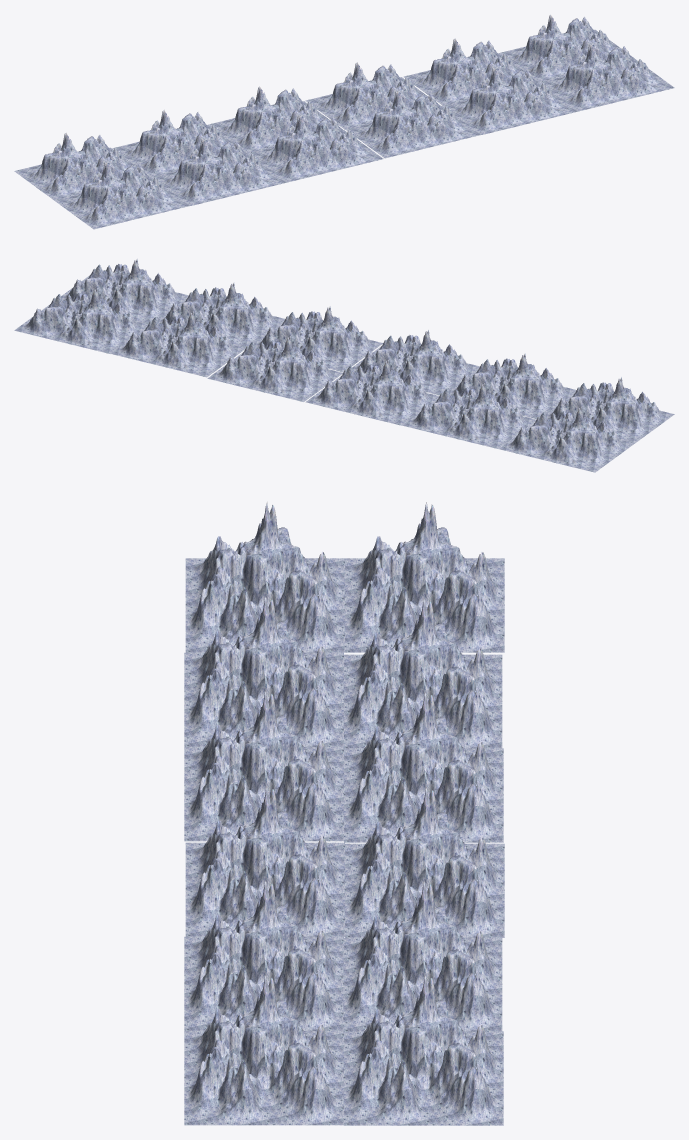
File: snowyMountains.glb
3 renders of one model, top to bottom at view 1: azimuth 30°, elevation 25°; view 2: azimuth 150°, elevation 25°; view 3: azimuth 270°, elevation 25°, orthographic. The views are drawn at different scales.
Visible parts, largest first — view 1: Landscape.003, Landscape.009, Landscape, Landscape.005, Landscape.006, Landscape.011, Landscape.002, Landscape.010, Landscape.007, Landscape.008, Landscape.004, Landscape.001; view 2: Landscape.002, Landscape.008, Landscape.007, Landscape.004, Landscape.001, Landscape.010, Landscape.009, Landscape.005, Landscape.003, Landscape, Landscape.011, Landscape.006; view 3: Landscape.011, Landscape.010, Landscape.002, Landscape.005, Landscape.004, Landscape, Landscape.009, Landscape.003, Landscape.006, Landscape.008, Landscape.007, Landscape.001.
Part boxes in pixels (bbox=[...]): Landscape.003: bbox=[54, 162, 189, 229]; Landscape.009: bbox=[345, 91, 480, 158]; Landscape: bbox=[151, 138, 286, 205]; Landscape.005: bbox=[248, 115, 383, 182]; Landscape.006: bbox=[442, 67, 577, 134]; Landscape.011: bbox=[539, 44, 674, 111]; Landscape.002: bbox=[14, 133, 149, 200]; Landscape.010: bbox=[499, 15, 634, 81]; Landscape.007: bbox=[403, 38, 538, 105]; Landscape.008: bbox=[305, 62, 440, 129]; Landscape.004: bbox=[208, 86, 342, 153]; Landscape.001: bbox=[112, 110, 246, 176]; Landscape.002: bbox=[499, 406, 634, 472]; Landscape.008: bbox=[207, 336, 342, 401]; Landscape.007: bbox=[111, 311, 245, 377]; Landscape.004: bbox=[305, 359, 439, 425]; Landscape.001: bbox=[402, 383, 536, 448]; Landscape.010: bbox=[14, 288, 148, 353]; Landscape.009: bbox=[254, 306, 383, 372]; Landscape.005: bbox=[352, 329, 479, 395]; Landscape.003: bbox=[545, 377, 674, 443]; Landscape: bbox=[448, 353, 576, 418]; Landscape.011: bbox=[61, 258, 188, 324]; Landscape.006: bbox=[157, 282, 285, 347]; Landscape.011: bbox=[184, 975, 343, 1125]; Landscape.010: bbox=[344, 975, 503, 1125]; Landscape.002: bbox=[345, 502, 504, 652]; Landscape.005: bbox=[184, 690, 343, 841]; Landscape.004: bbox=[344, 692, 503, 842]; Landscape: bbox=[184, 596, 343, 746]; Landscape.009: bbox=[185, 786, 344, 936]; Landscape.003: bbox=[185, 502, 344, 652]; Landscape.006: bbox=[184, 880, 343, 1030]; Landscape.008: bbox=[345, 787, 504, 937]; Landscape.007: bbox=[343, 881, 502, 1031]; Landscape.001: bbox=[344, 598, 502, 748].
Bounding box in the file's own units: 263 × 19.5 × 62.82.
1 material, 1 textured.
